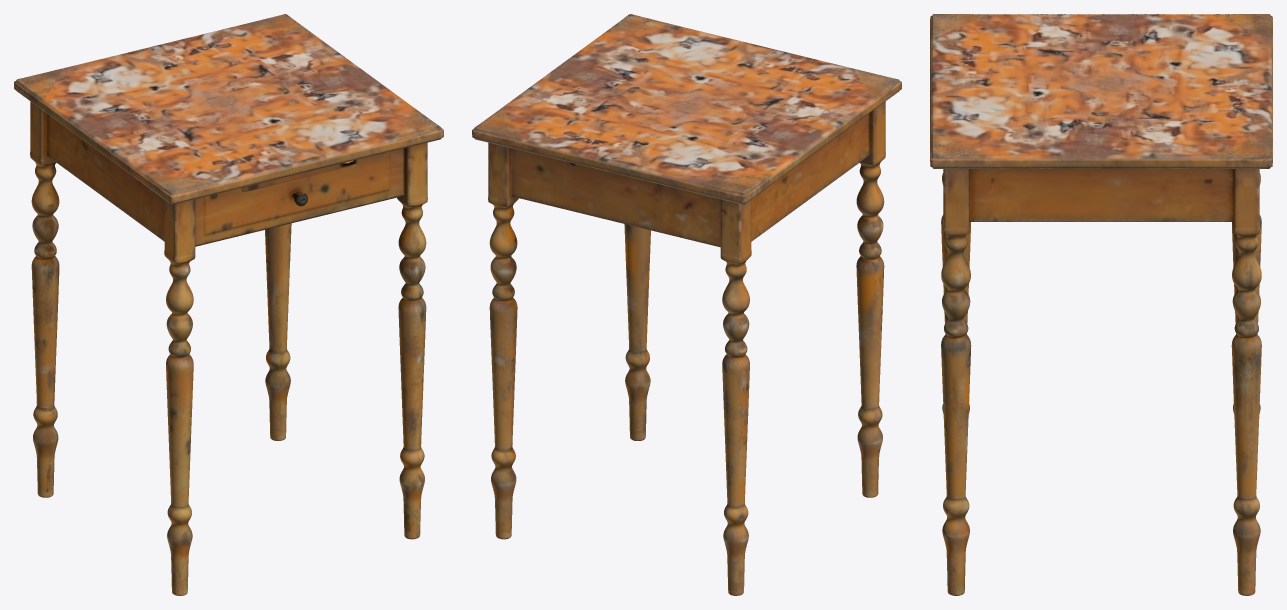
Rendered from Meshy_AI_new_kitchen_table_0125053307_texture.glb.
The picture shows the model from 3 angles, left to right: view 1: azimuth 30°, elevation 25°; view 2: azimuth 150°, elevation 25°; view 3: azimuth 270°, elevation 25°; orthographic projection. The views are drawn at different scales.
Bounding box in the file's own units: 1.32 × 1.9 × 1.32.
1 material, 1 textured.
